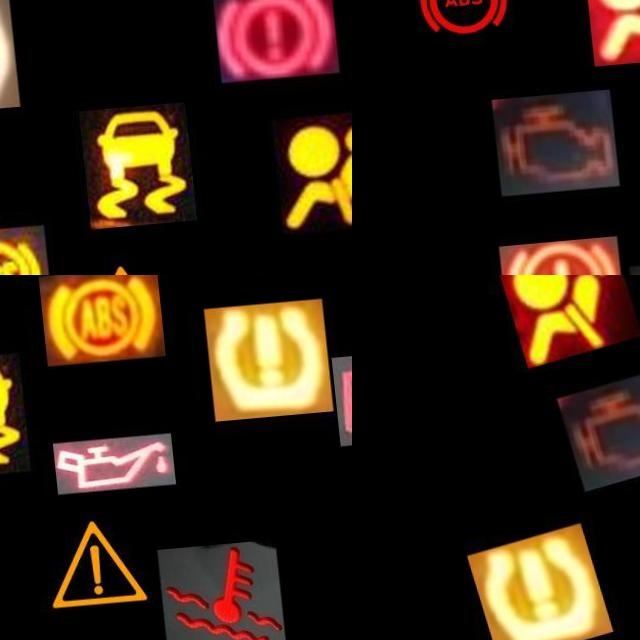Central Warning lamp: (25, 504, 153, 630), (50, 249, 177, 275)
Engine cooling system: (150, 547, 277, 640)
